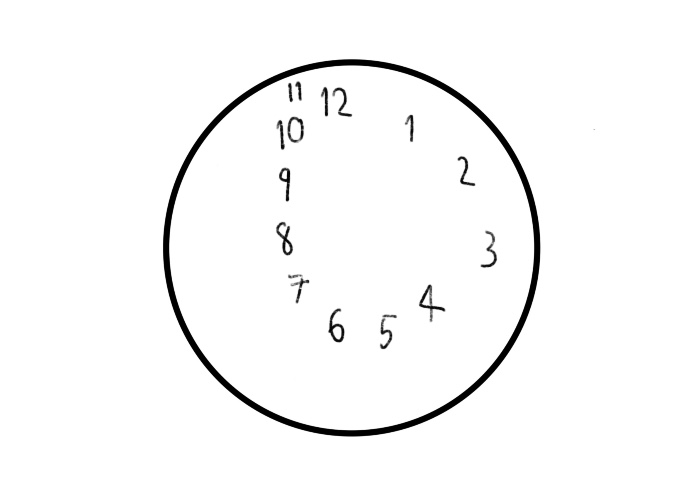eight: (271, 217, 294, 257)
eleven: (285, 80, 307, 105)
four: (416, 279, 448, 326)
nine: (273, 163, 299, 205)
one: (404, 115, 417, 145)
seven: (285, 272, 311, 303)
six: (327, 303, 350, 349), (374, 307, 398, 351)
ten: (273, 117, 305, 152)
three: (476, 226, 499, 273)
twelve: (318, 80, 353, 121)
two: (453, 151, 478, 187)
